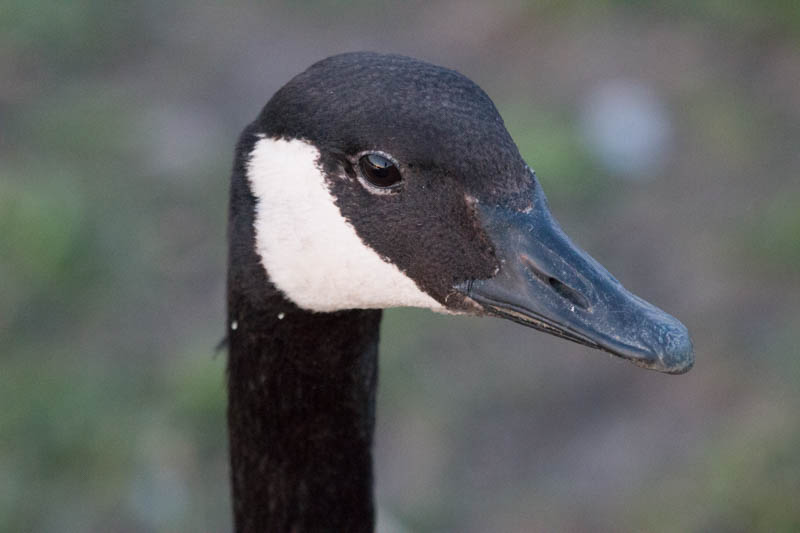goose-head: (227, 51, 693, 375)
